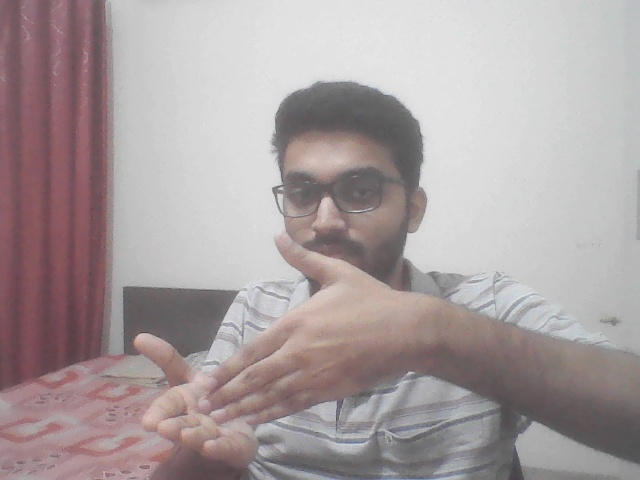again: (121, 238, 429, 466)
